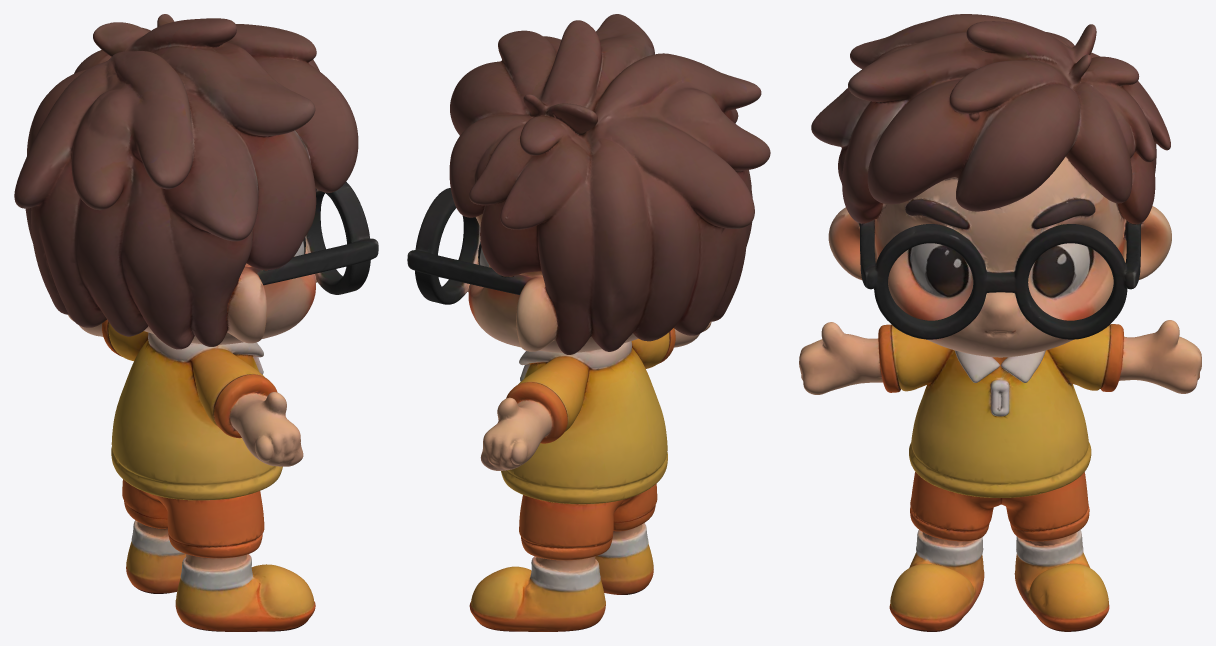
File: character-boy-glasses.glb
3 views of the same model, side by side, from view 1: azimuth 30°, elevation 25°; view 2: azimuth 150°, elevation 25°; view 3: azimuth 270°, elevation 25° (orthographic). The views are drawn at different scales.
Parts seen in each view (by area): view 1: tripo_node_c80d271c-121c-4317-8783-d7b77f19a269; view 2: tripo_node_c80d271c-121c-4317-8783-d7b77f19a269; view 3: tripo_node_c80d271c-121c-4317-8783-d7b77f19a269.
Boxes of the visible parts, <box> form: tripo_node_c80d271c-121c-4317-8783-d7b77f19a269: <box>14,14,378,631</box>; tripo_node_c80d271c-121c-4317-8783-d7b77f19a269: <box>407,14,770,631</box>; tripo_node_c80d271c-121c-4317-8783-d7b77f19a269: <box>799,14,1201,631</box>.
Size of the model in its own units: 0.5385 by 1 by 0.6265.
Materials: 1 (1 with a texture image).
